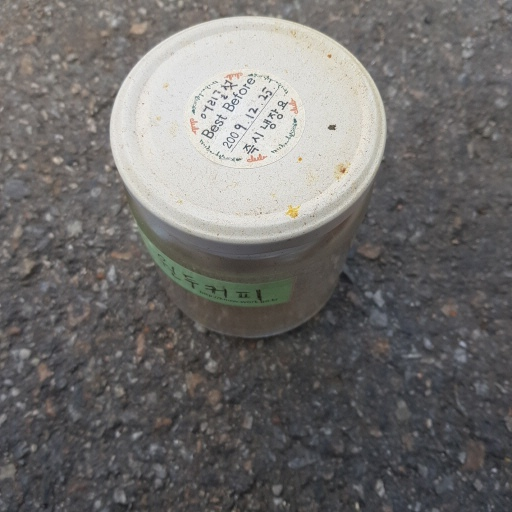Glass_5: (104, 15, 386, 344)
